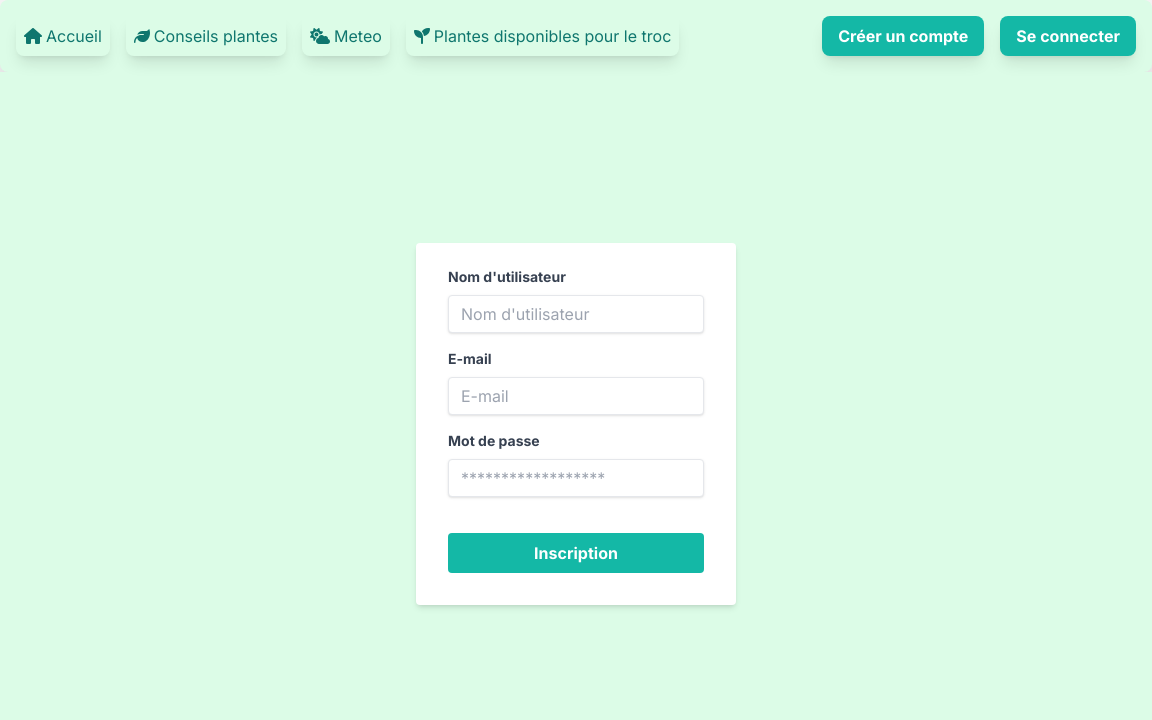
Test: Inscription › should successfully register a user
Type "testuser" into the field with placeholder "Nom d" at coordinates (576, 314), box [448,295,704,333]
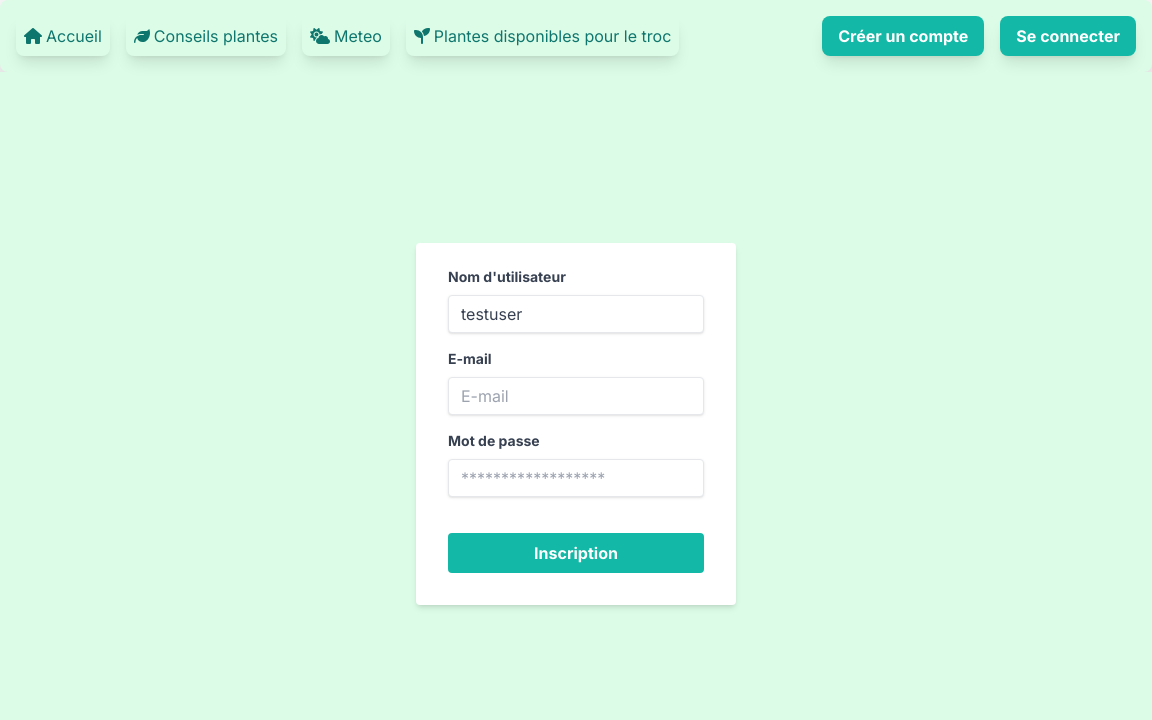
Type "test@example.com" into the field with placeholder "E-mail" at coordinates (576, 396), box [448,377,704,415]
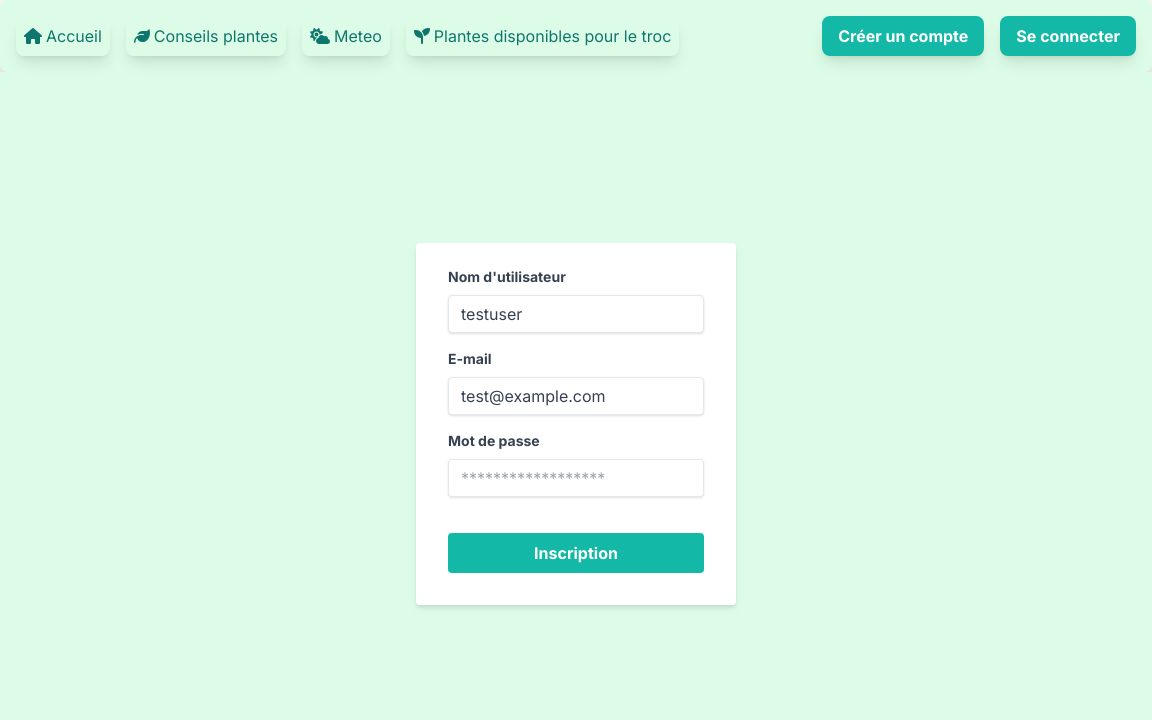
Type "Password123!" into the password field with placeholder "******************" at coordinates (576, 478), box [448,459,704,497]
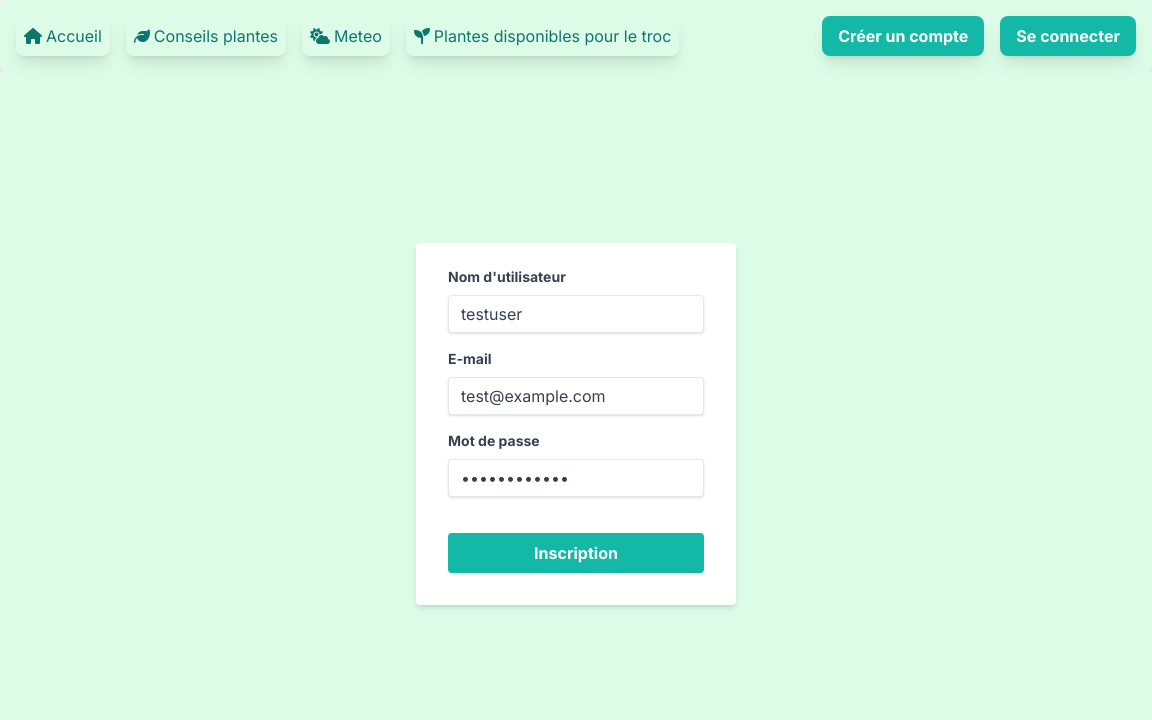
Click the button "Inscription" at coordinates (576, 553), box [448,533,704,573]
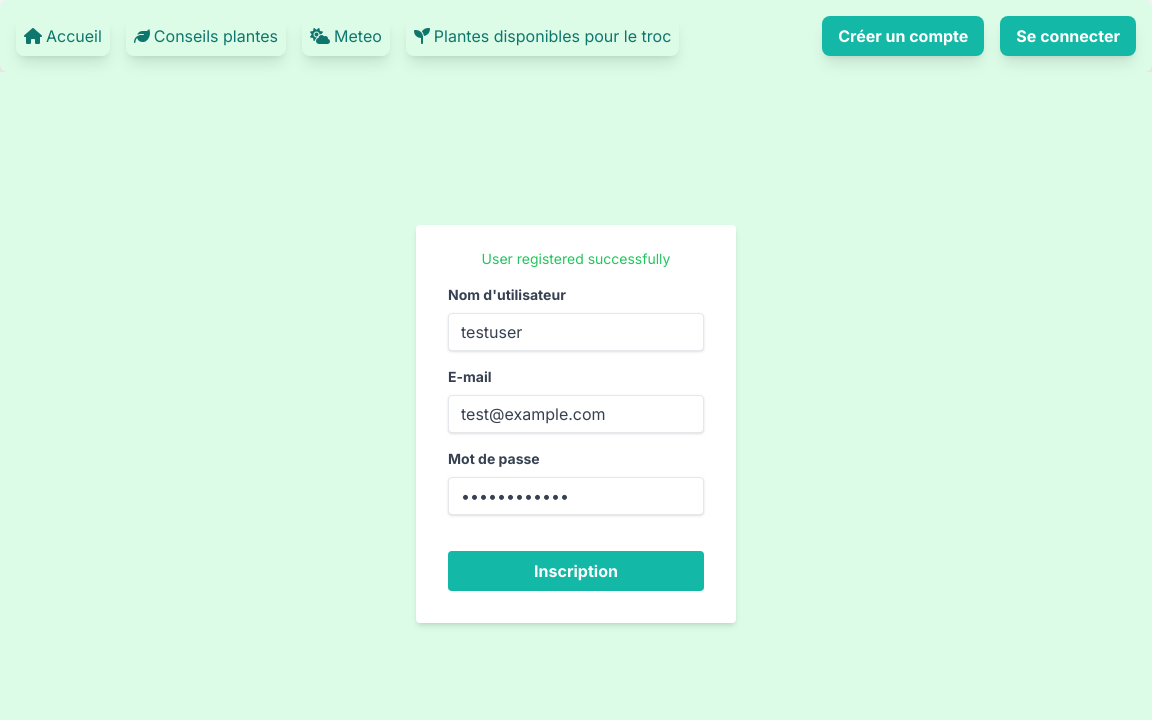
expect the text "User registered successfully" is shown: met, box [482,250,670,267]
